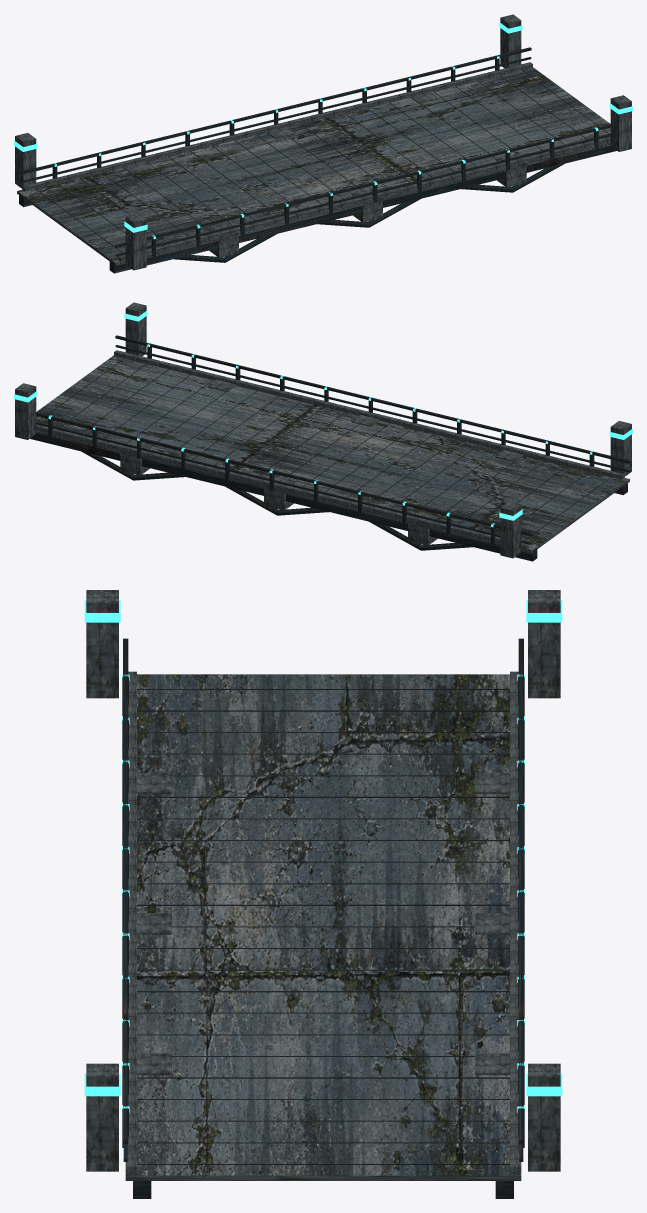
Rendered from great-bridge.glb.
3 views of the same model, one above another, from view 1: azimuth 30°, elevation 25°; view 2: azimuth 150°, elevation 25°; view 3: azimuth 270°, elevation 25° (orthographic). The views are drawn at different scales.
Visible parts, largest first — view 1: great-bridge-concrete, great-bridge-steel, great-bridge-lamp; view 2: great-bridge-concrete, great-bridge-steel, great-bridge-lamp; view 3: great-bridge-concrete, great-bridge-steel, great-bridge-lamp.
Boxes of the visible parts, x1,y1,x2,y2 form: great-bridge-concrete: (15, 14, 631, 270); great-bridge-steel: (16, 47, 616, 273); great-bridge-lamp: (14, 22, 632, 239); great-bridge-concrete: (15, 302, 631, 558); great-bridge-steel: (30, 335, 630, 561); great-bridge-lamp: (14, 310, 632, 527); great-bridge-concrete: (86, 590, 560, 1180); great-bridge-steel: (122, 638, 524, 1198); great-bridge-lamp: (84, 600, 562, 1112).
Size of the model in its own units: 36 by 5.08 by 14.5.
Materials: 3 (2 with a texture image).
